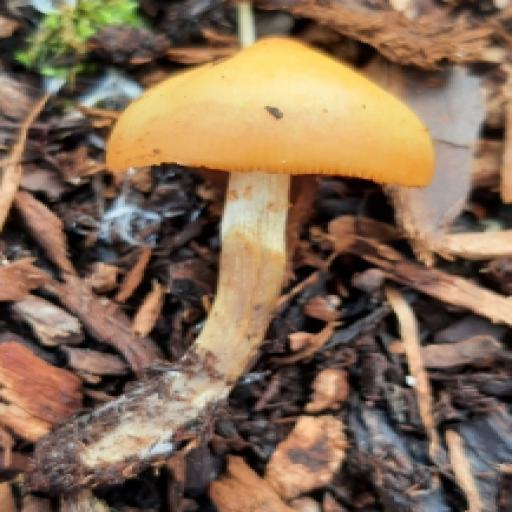mushroom: (108, 33, 429, 374)
